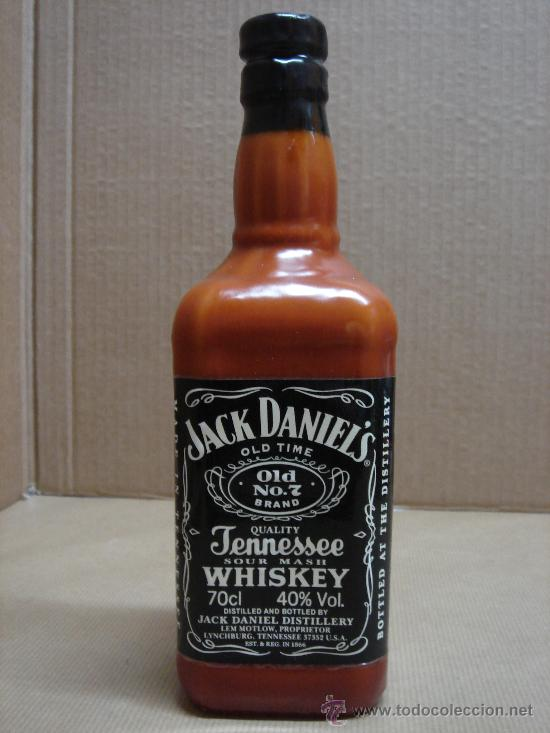Jack Daniel: (150, 3, 417, 729)
